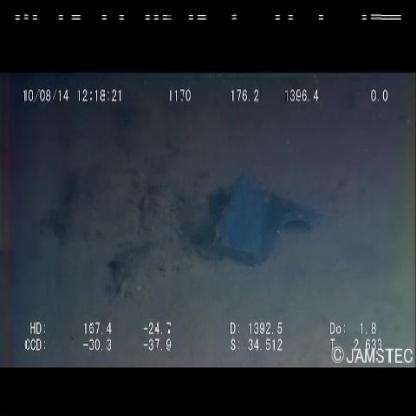Rác: (204, 166, 325, 270)
